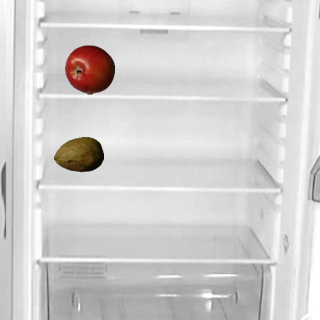Apple Braeburn: (64, 44, 114, 94)
Papaya: (53, 129, 103, 179)
